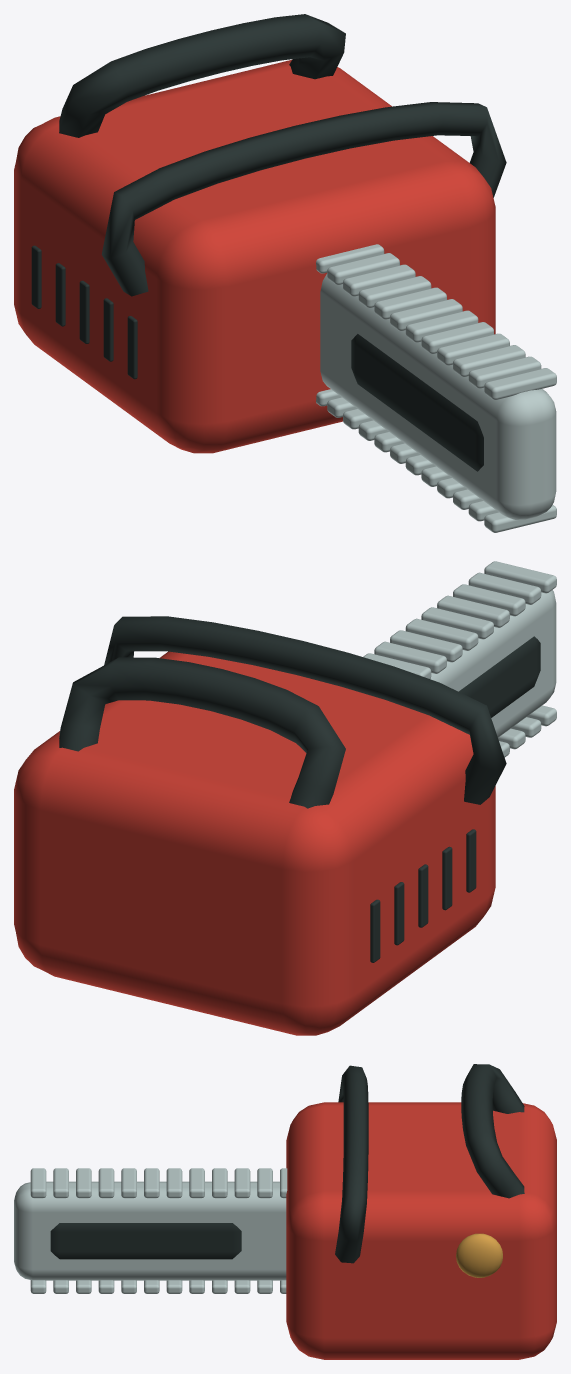
Rendered from chainsaw-light.glb.
The picture shows the model from 3 angles, top to bottom: view 1: azimuth 30°, elevation 25°; view 2: azimuth 150°, elevation 25°; view 3: azimuth 270°, elevation 25°; orthographic projection. The views are drawn at different scales.
Visible parts, largest first — view 1: red, dark, steel; view 2: red, dark, steel; view 3: red, steel, dark, brass.
Part boxes in pixels (box(x1,y1,x2,y2)): red: box(14, 60, 495, 453); dark: box(31, 14, 506, 471); steel: box(316, 244, 556, 532); red: box(14, 651, 495, 1035); dark: box(59, 616, 540, 962); steel: box(363, 561, 556, 757); red: box(286, 1102, 556, 1359); steel: box(14, 1168, 287, 1293); dark: box(50, 1064, 524, 1263); brass: box(456, 1233, 502, 1277).
Size of the model in its own units: 0.5248 by 0.3899 by 0.863.
